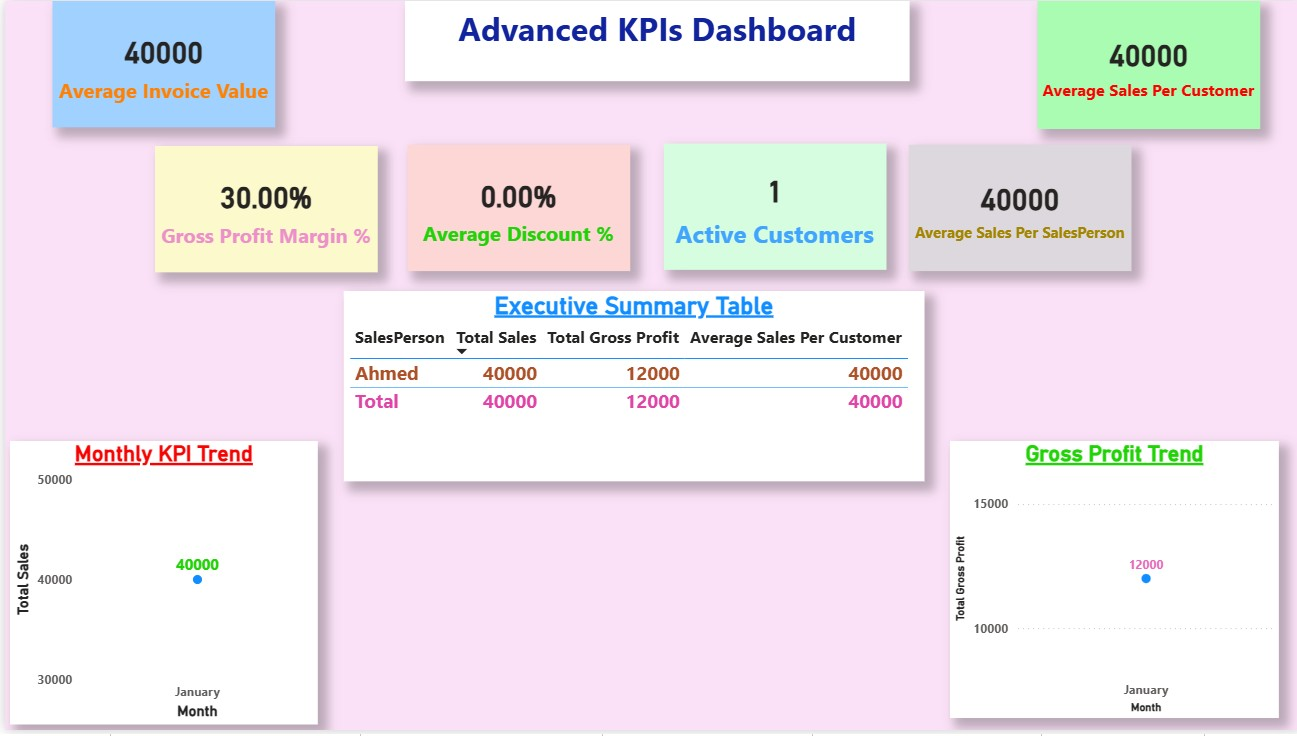

Layout of this report page (visuals, bound fields, positions):
{"tool":"powerbi","page":{"name":"Advanced KPIs Dashboard","canvas":[1280,720],"ordinal":6},"visuals":[{"type":"card","fields":{"Values":["_Measures.Average Invoice Value"]},"box":[46.6,0,219.7,124.9],"z":0},{"type":"textbox","box":[394.6,0,498.5,79.5],"z":1000},{"type":"card","fields":{"Values":["_Measures.Gross Profit Margin %"]},"box":[147.9,142.9,219.7,124.9],"z":2000},{"type":"card","fields":{"Values":["_Measures.Average Discount %"]},"box":[397.7,141.4,219.7,124.9],"z":3000},{"type":"card","fields":{"Values":["_Measures.Active Custumers"]},"box":[650.8,141.1,219.7,124.9],"z":4000},{"type":"card","fields":{"Values":["_Measures.Average Sales Per Customer"]},"box":[1020,0,219.7,126.4],"z":5000},{"type":"card","fields":{"Values":["_Measures.Average Sales Per SalesPerson"]},"box":[892.2,141.4,219.7,124.9],"z":6000},{"type":"lineChart","title":"Monthly KPI Trend","fields":{"Category":["tbl_Sales.Invoice Date.Variation.Date Hierarchy.Month"],"Y":["_Measures.Total Sales"]},"box":[4.5,434.8,303.9,279.8],"z":7000},{"type":"lineChart","title":"Gross Profit Trend","fields":{"Category":["tbl_Sales.Invoice Date.Variation.Date Hierarchy.Month"],"Y":["_Measures.Total Gross Profit"]},"box":[932.8,434.8,325,273.8],"z":8000},{"type":"tableEx","title":"Executive Summary Table","fields":{"Values":["tbl_Sales.SalesPerson","_Measures.Total Sales","_Measures.Total Gross Profit","_Measures.Average Sales Per Customer"]},"box":[334,285.8,573.2,188.1],"z":9000}]}

Visuals, with their boxes in screenshot pixels (x1, y1, x2, y2), scaled from the page's 1280x720 canvas onto the 1297x736 screenshot:
card - _Measures.Average Invoice Value: detection(47, 0, 270, 128)
textbox: detection(400, 0, 905, 81)
card - _Measures.Gross Profit Margin %: detection(150, 146, 372, 274)
card - _Measures.Average Discount %: detection(403, 145, 626, 272)
card - _Measures.Active Custumers: detection(659, 144, 882, 272)
card - _Measures.Average Sales Per Customer: detection(1034, 0, 1256, 129)
card - _Measures.Average Sales Per SalesPerson: detection(904, 145, 1127, 272)
"Monthly KPI Trend" lineChart: detection(5, 444, 312, 730)
"Gross Profit Trend" lineChart: detection(945, 444, 1275, 724)
"Executive Summary Table" tableEx: detection(338, 292, 919, 484)
